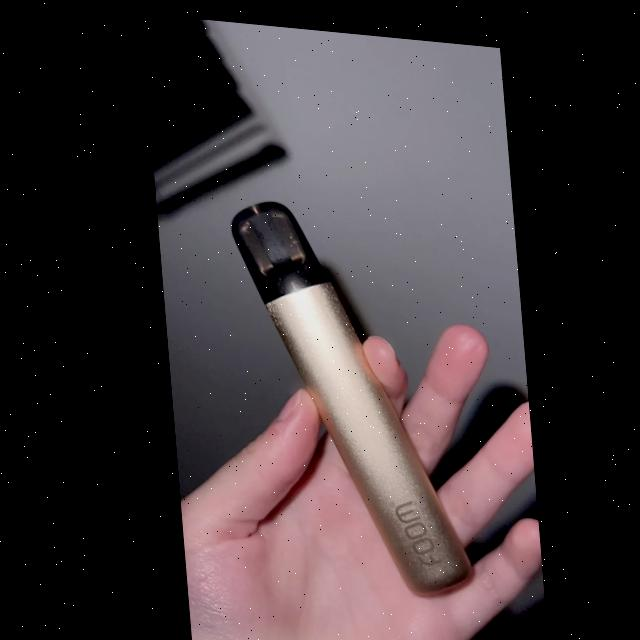vape: (223, 189, 469, 596)
